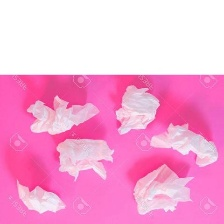tissue: (20, 89, 104, 140), (127, 159, 198, 219), (144, 117, 221, 172), (50, 132, 118, 186), (111, 82, 162, 138), (11, 174, 69, 218)
